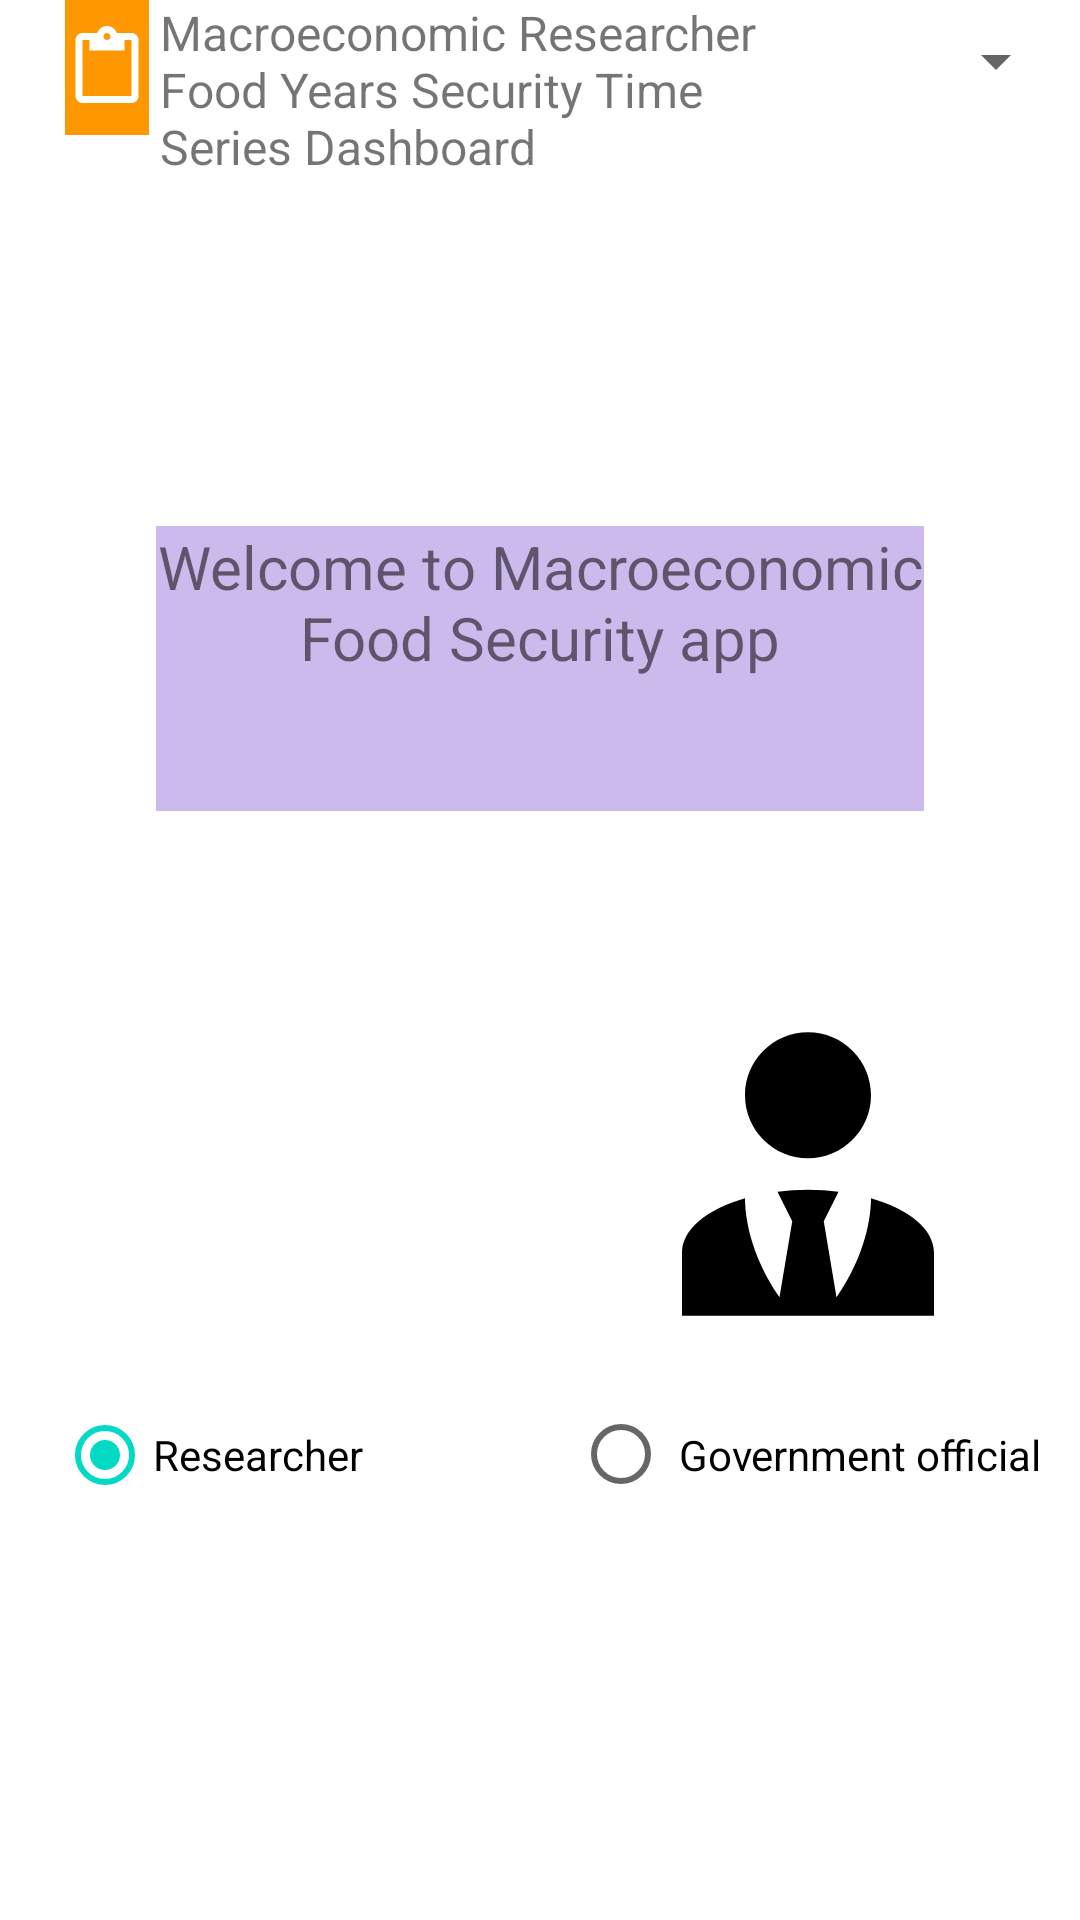

Icon click points for this 1080x1920 phone screenshot, format (x,y):
account tie: (808,1174)
